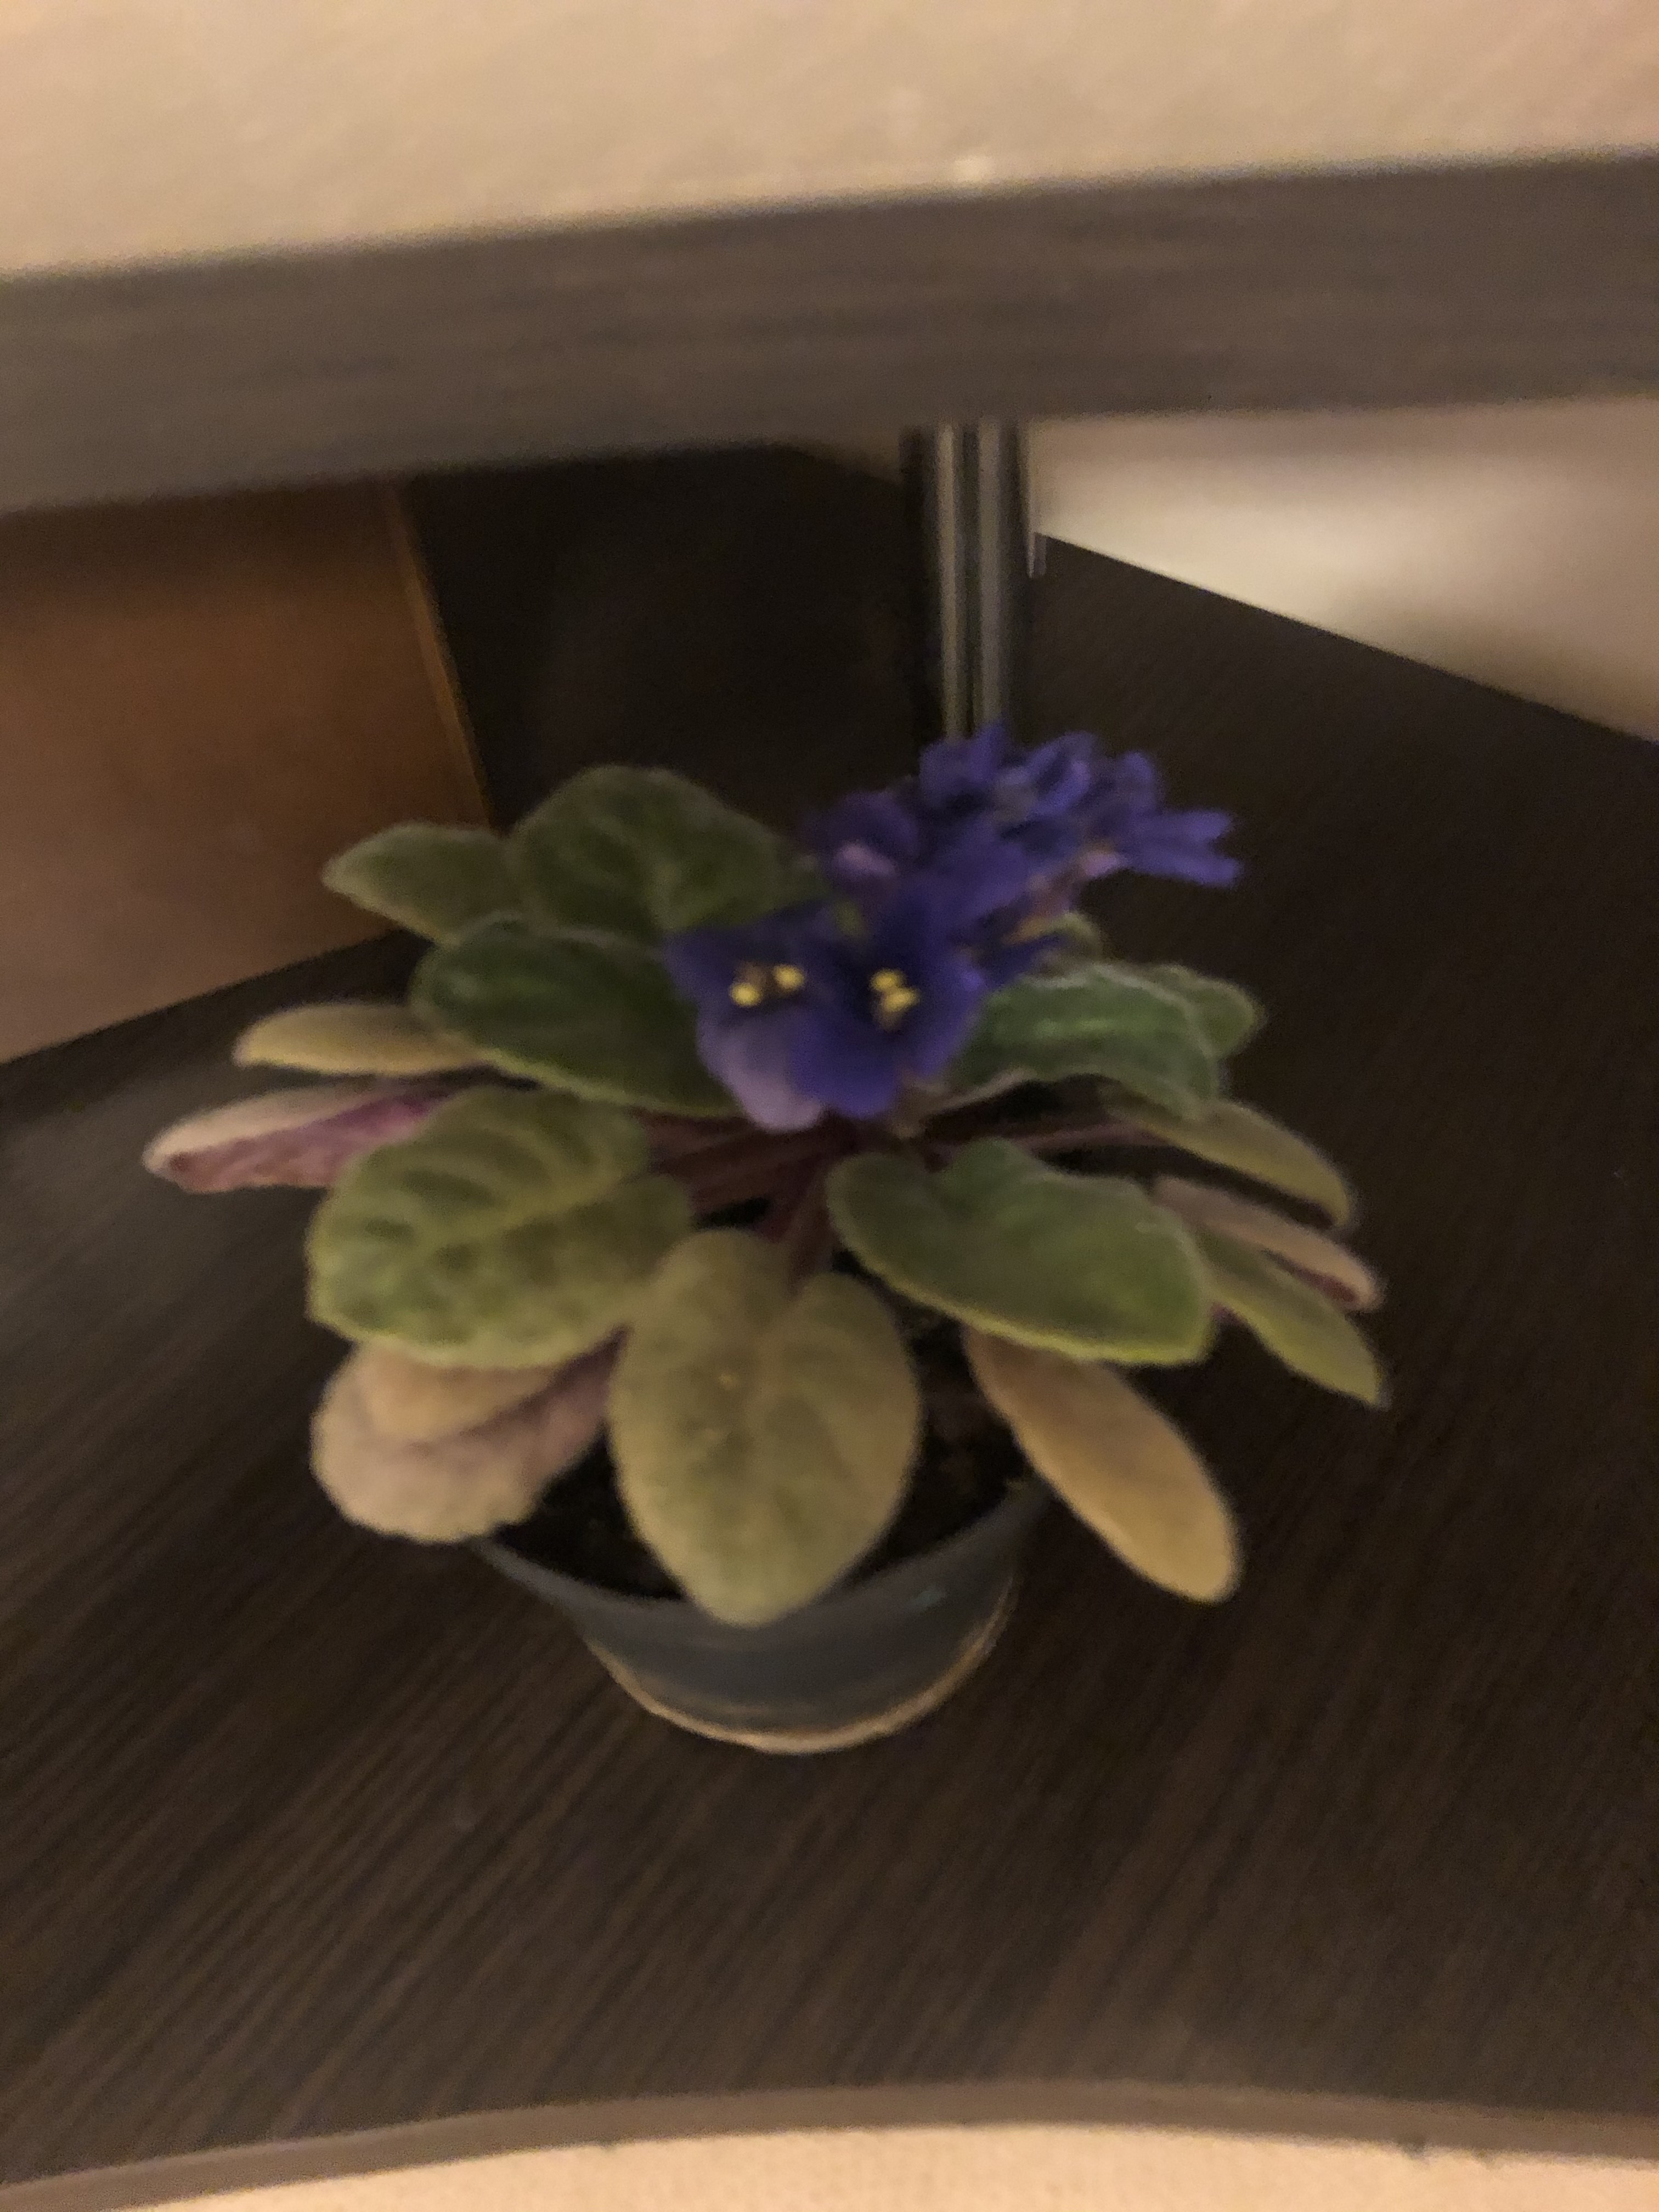ignore: (146, 709, 1429, 1655)
